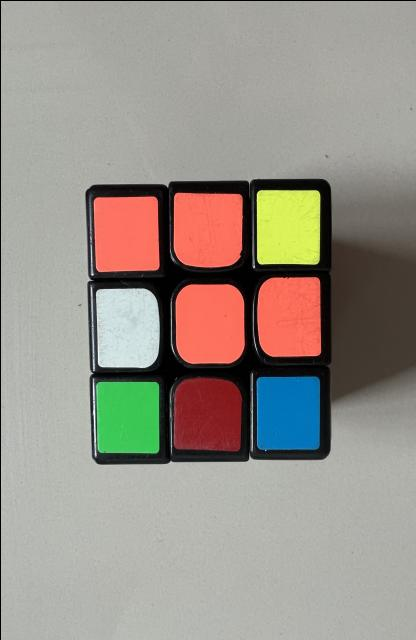Blue: (256, 376, 318, 449)
Green: (95, 380, 158, 452)
Orange: (174, 284, 244, 362), (172, 191, 242, 266), (257, 276, 321, 356), (92, 195, 158, 271)
Red: (172, 376, 240, 451)
White: (94, 288, 159, 368)
Yellow: (256, 189, 320, 264)
